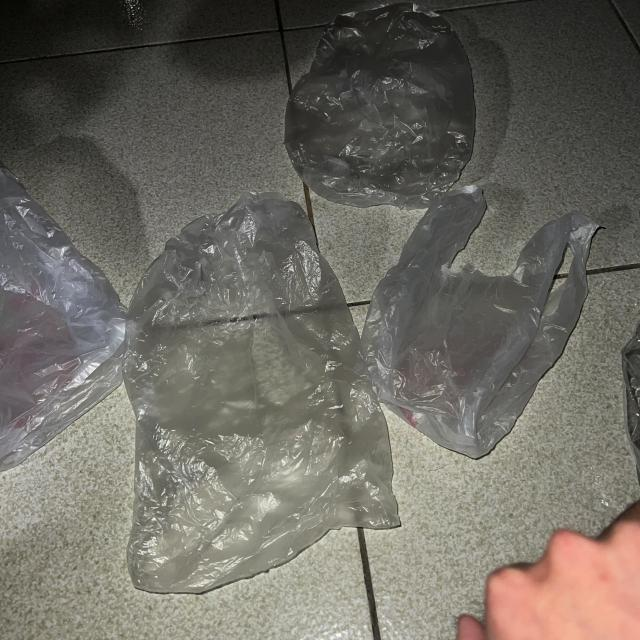Single-layer Plastic: (124, 194, 400, 592), (362, 186, 599, 458), (285, 4, 475, 208), (1, 166, 126, 471)
